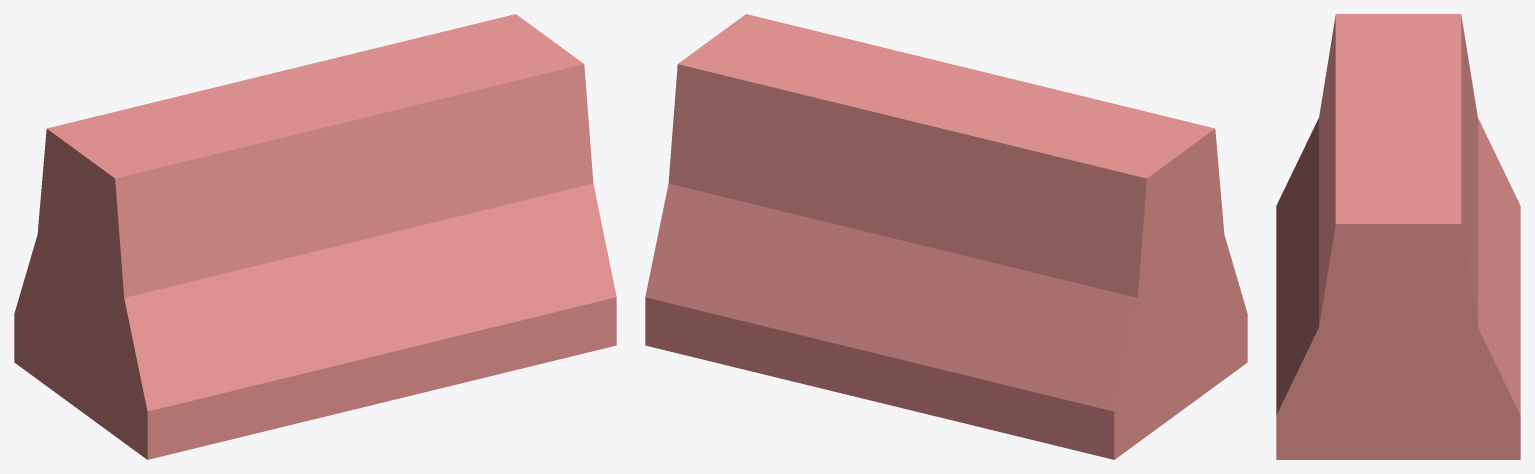
Rendered from barrierRed.gltf.
3 views of the same model, side by side, from view 1: azimuth 30°, elevation 25°; view 2: azimuth 150°, elevation 25°; view 3: azimuth 270°, elevation 25° (orthographic). The views are drawn at different scales.
Parts seen in each view (by area): view 1: barrierRed; view 2: barrierRed; view 3: barrierRed.
Boxes of the visible parts, x1=… form: barrierRed: x1=14, y1=14, x2=616, y2=459; barrierRed: x1=645, y1=14, x2=1247, y2=459; barrierRed: x1=1276, y1=14, x2=1520, y2=459.
Bounding box in the file's own units: 2.5 × 1.31 × 1.23.
